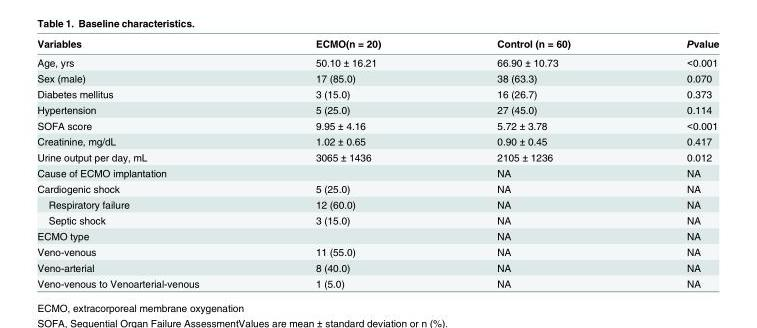table: (36, 36, 718, 288)
table column: (36, 36, 256, 288), (438, 36, 627, 288), (256, 36, 438, 288), (627, 36, 718, 288)
table column header: (36, 36, 718, 52)
table row: (36, 52, 718, 70), (36, 36, 718, 52), (36, 85, 718, 101), (36, 101, 718, 117), (36, 117, 718, 133), (36, 148, 718, 164), (36, 164, 718, 180), (36, 180, 718, 196), (36, 196, 718, 212), (36, 227, 718, 243), (36, 243, 718, 259), (36, 259, 718, 275), (36, 70, 718, 85), (36, 133, 718, 148), (36, 212, 718, 227), (36, 275, 718, 288)
